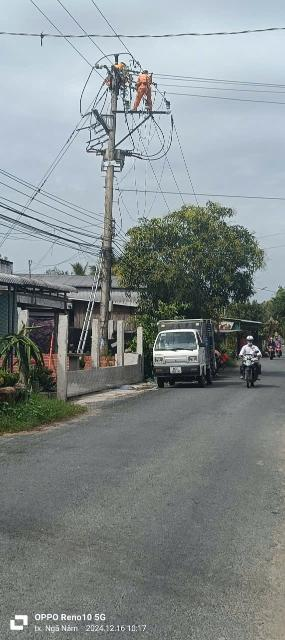harness: (136, 78, 151, 85)
helmet: (141, 68, 150, 75), (120, 60, 127, 67)
shoes: (129, 107, 138, 112)
